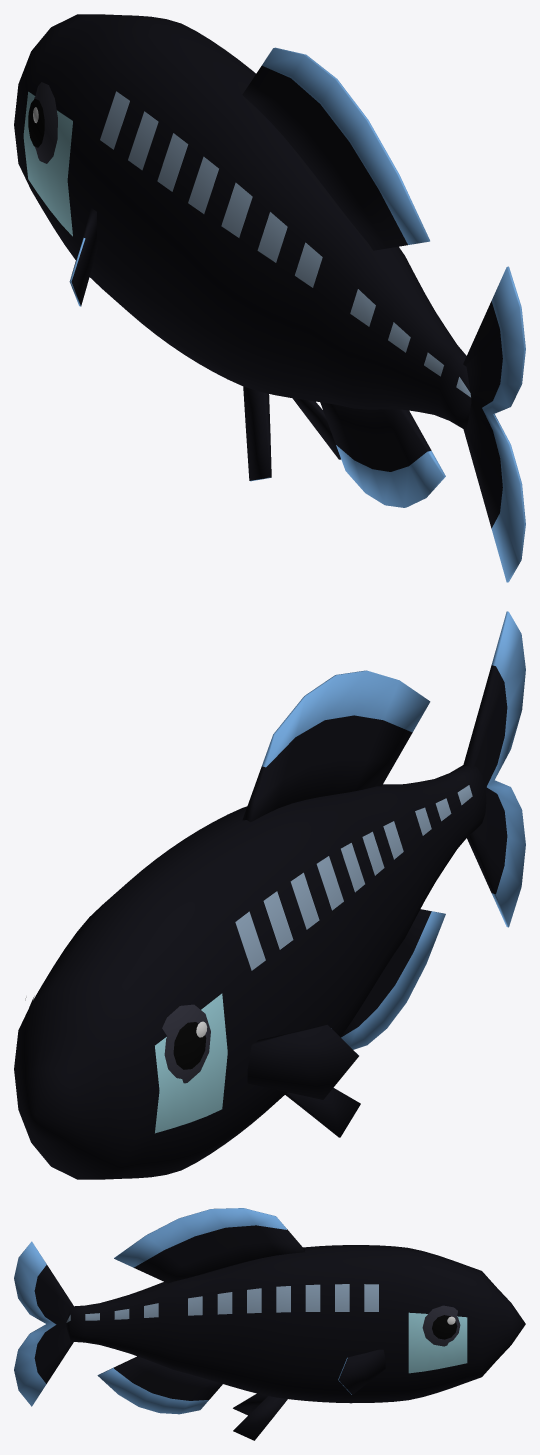
Rendered from flashlight_fish.glb.
3 views of the same model, one above another, from view 1: azimuth 30°, elevation 25°; view 2: azimuth 150°, elevation 25°; view 3: azimuth 270°, elevation 25° (orthographic). The views are drawn at different scales.
Visible parts, largest first — view 1: flashlight_fish; view 2: flashlight_fish; view 3: flashlight_fish.
Part boxes in pixels (x1,y1,x2,y2): flashlight_fish: (14, 14, 525, 582); flashlight_fish: (14, 611, 525, 1179); flashlight_fish: (14, 1208, 525, 1440).
Size of the model in its own units: 0.647 by 0.9029 by 1.89.
